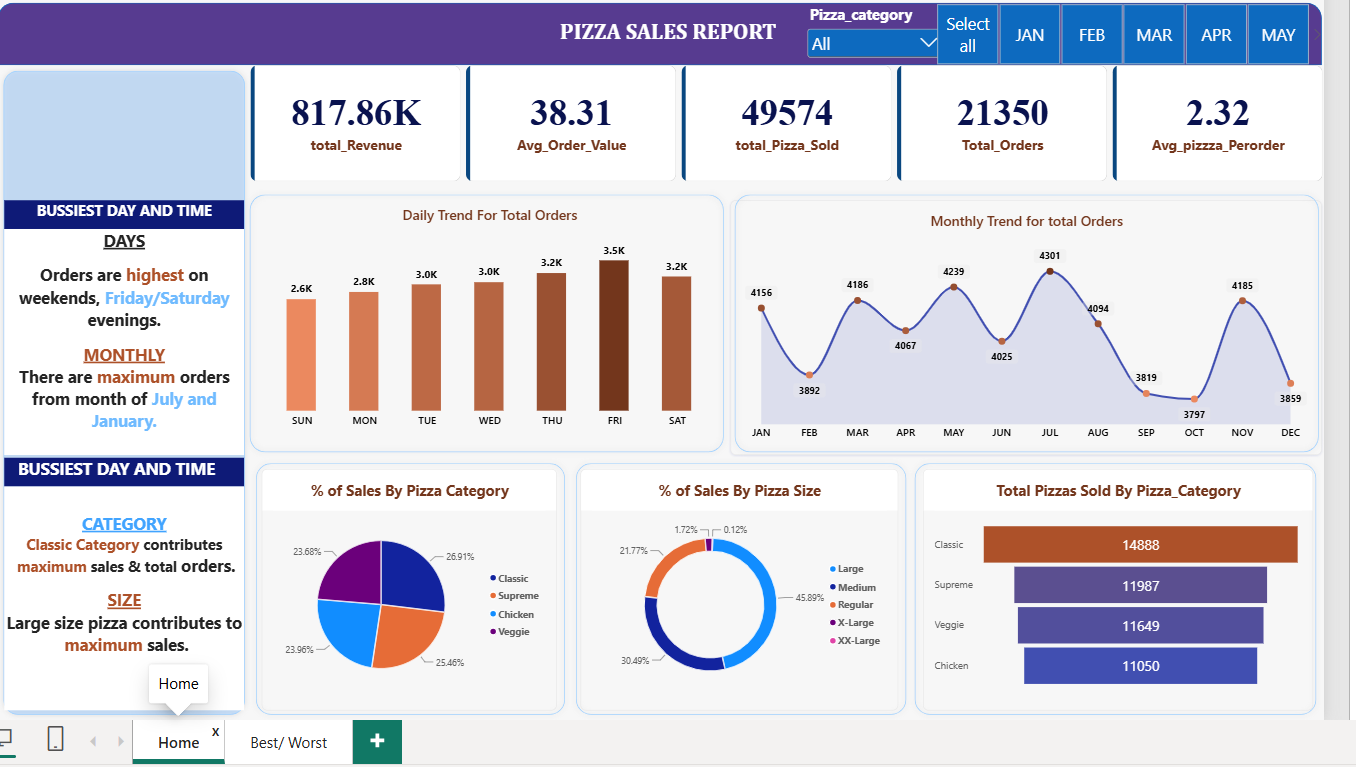

Layout of this report page (visuals, bound fields, positions):
{"tool":"powerbi","page":{"name":"Home ","canvas":[1920,1080],"ordinal":0},"visuals":[{"type":"cardVisual","fields":{"Data":["Pizza_sales.total_Revenue","Pizza_sales.Avg_Order_Value","Pizza_sales.total_Pizza_Sold","Pizza_sales.Total_Orders","Pizza_sales.Avg_pizzza_Perorder"]},"box":[365.6,132.1,1554.5,168.3],"z":0},{"type":"shape","box":[0,41.6,1916.4,90.5],"z":1000},{"type":"textbox","box":[738.3,63.3,428.9,68.8],"z":2000},{"type":"areaChart","title":"Monthly Trend for total Orders","fields":{"Y":["CountNonNull(Pizza_sales.order Month)"],"Category":["Pizza_sales.order Month"]},"box":[1060.5,327.5,856,369.2],"z":3000},{"type":"columnChart","title":"Daily Trend For Total Orders","fields":{"Category":["Pizza_sales.Order Day"],"Y":["Pizza_sales.Total_Orders"]},"box":[365.6,320.3,693.1,356.5],"z":4000},{"type":"shape","box":[1058.7,311.3,861.4,389.1],"z":5000},{"type":"shape","box":[356.5,311.3,702.1,389.1],"z":6000},{"type":"shape","box":[365.6,700.3,463.3,380],"z":7000},{"type":"shape","box":[828.8,700.3,494,380],"z":8000},{"type":"shape","box":[1319.2,700.3,597.2,380],"z":9000},{"type":"pieChart","title":"% of Sales By Pizza Category","fields":{"Category":["Pizza_sales.pizza_category"],"Y":["Pizza_sales.total_Revenue"]},"box":[381.8,716.6,427.1,349.3],"z":10000},{"type":"donutChart","title":"% of Sales By Pizza Size","fields":{"Y":["Pizza_sales.total_Revenue"],"Category":["Pizza_sales.pizza_size"]},"box":[843.3,716.6,459.7,349.3],"z":11000},{"type":"funnel","title":"Total Pizzas Sold By Pizza_Category","fields":{"Category":["Pizza_sales.pizza_category"],"Y":["Pizza_sales.total_Pizza_Sold"]},"box":[1339.1,716.6,564.6,349.3],"z":12000},{"type":"shape","box":[0,132.1,365.6,948.3],"z":13000},{"type":"textbox","box":[9,327.5,347.5,41.6],"z":14000},{"type":"textbox","box":[9,700.3,347.5,41.6],"z":15000},{"type":"textbox","box":[9,369.2,347.5,327.5],"z":16000},{"type":"textbox","box":[9,742,347.5,323.9],"z":17000},{"type":"slicer","fields":{"Values":["Pizza_sales.pizza_category"]},"box":[1167.2,43.4,202.7,108.6],"z":18000},{"type":"slicer","fields":{"Values":["Pizza_sales.order Month"]},"box":[1339.1,41.6,577.3,90.5],"z":19000}]}

Visuals, with their boxes on the page's 1920x1080 design canvas (x1, y1, x2, y2). These are canvas units, not pixel positions in the 1356x767 screenshot, which may show the page scaled, cropped or inside an application window:
cardVisual - Pizza_sales.total_Revenue x Pizza_sales.Avg_Order_Value: [366, 132, 1920, 300]
shape: [0, 42, 1916, 132]
textbox: [738, 63, 1167, 132]
"Monthly Trend for total Orders" areaChart: [1060, 328, 1916, 697]
"Daily Trend For Total Orders" columnChart: [366, 320, 1059, 677]
shape: [1059, 311, 1920, 700]
shape: [356, 311, 1059, 700]
shape: [366, 700, 829, 1080]
shape: [829, 700, 1323, 1080]
shape: [1319, 700, 1916, 1080]
"% of Sales By Pizza Category" pieChart: [382, 717, 809, 1066]
"% of Sales By Pizza Size" donutChart: [843, 717, 1303, 1066]
"Total Pizzas Sold By Pizza_Category" funnel: [1339, 717, 1904, 1066]
shape: [0, 132, 366, 1080]
textbox: [9, 328, 356, 369]
textbox: [9, 700, 356, 742]
textbox: [9, 369, 356, 697]
textbox: [9, 742, 356, 1066]
slicer - Pizza_sales.pizza_category: [1167, 43, 1370, 152]
slicer - Pizza_sales.order Month: [1339, 42, 1916, 132]
